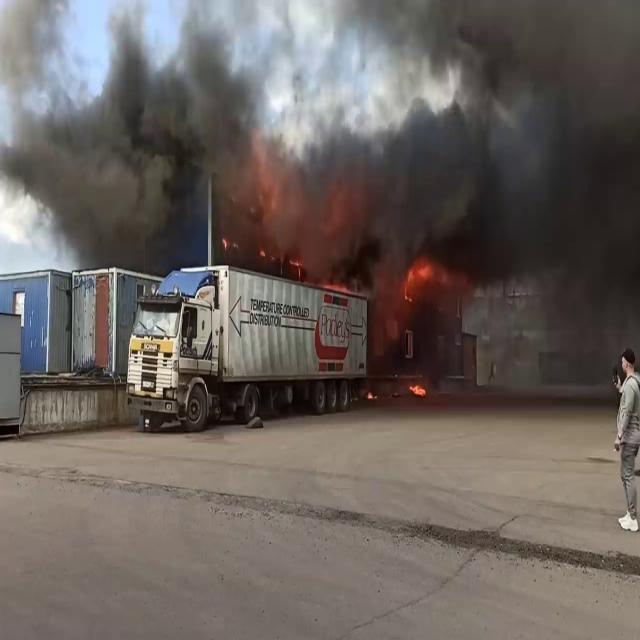Fire: (400, 254, 440, 300)
Smoke: (348, 1, 640, 347), (0, 1, 257, 278)
